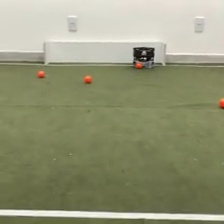ball: (217, 95, 224, 110), (37, 69, 46, 78), (83, 74, 92, 83), (135, 61, 143, 70)
goal: (41, 38, 167, 67)
robot: (131, 44, 156, 69)
